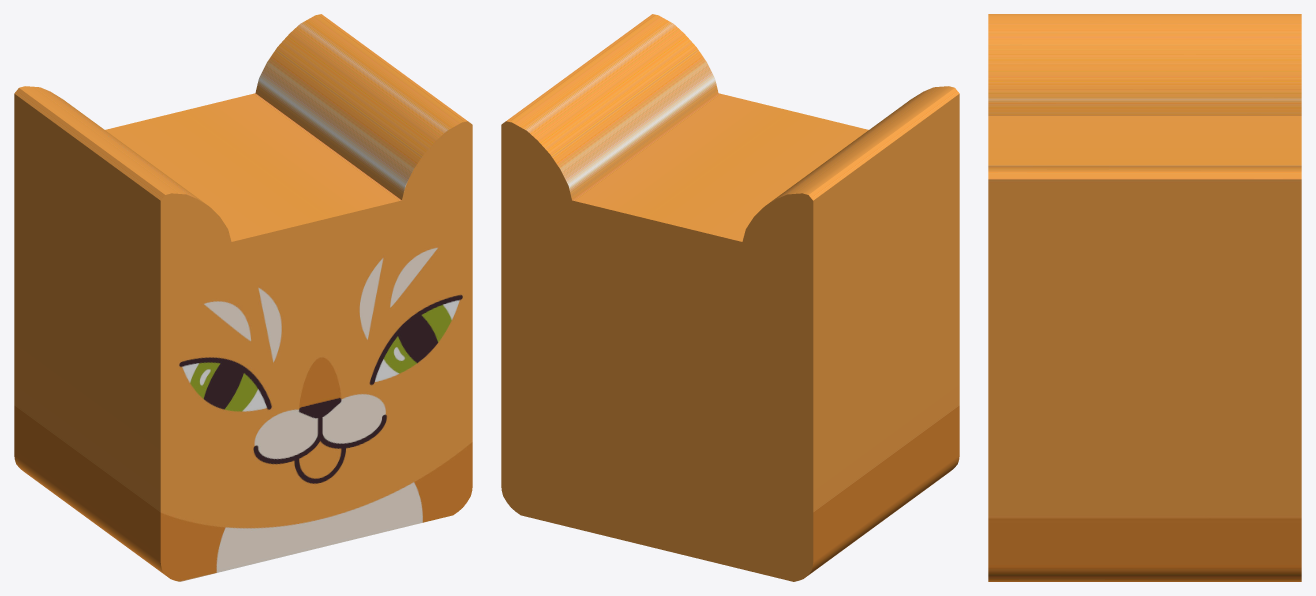
Rendered from Cat.obj.
The picture shows the model from 3 angles, left to right: view 1: azimuth 30°, elevation 25°; view 2: azimuth 150°, elevation 25°; view 3: azimuth 270°, elevation 25°; orthographic projection. The views are drawn at different scales.
Parts seen in each view (by area): view 1: cat; view 2: cat; view 3: cat.
Boxes of the visible parts, left/top/right/bottom form: cat: left=14, top=14, right=472, bottom=581; cat: left=501, top=14, right=959, bottom=581; cat: left=988, top=14, right=1301, bottom=581.
Bounding box in the file's own units: 5.36 × 6.41 × 4.36.
